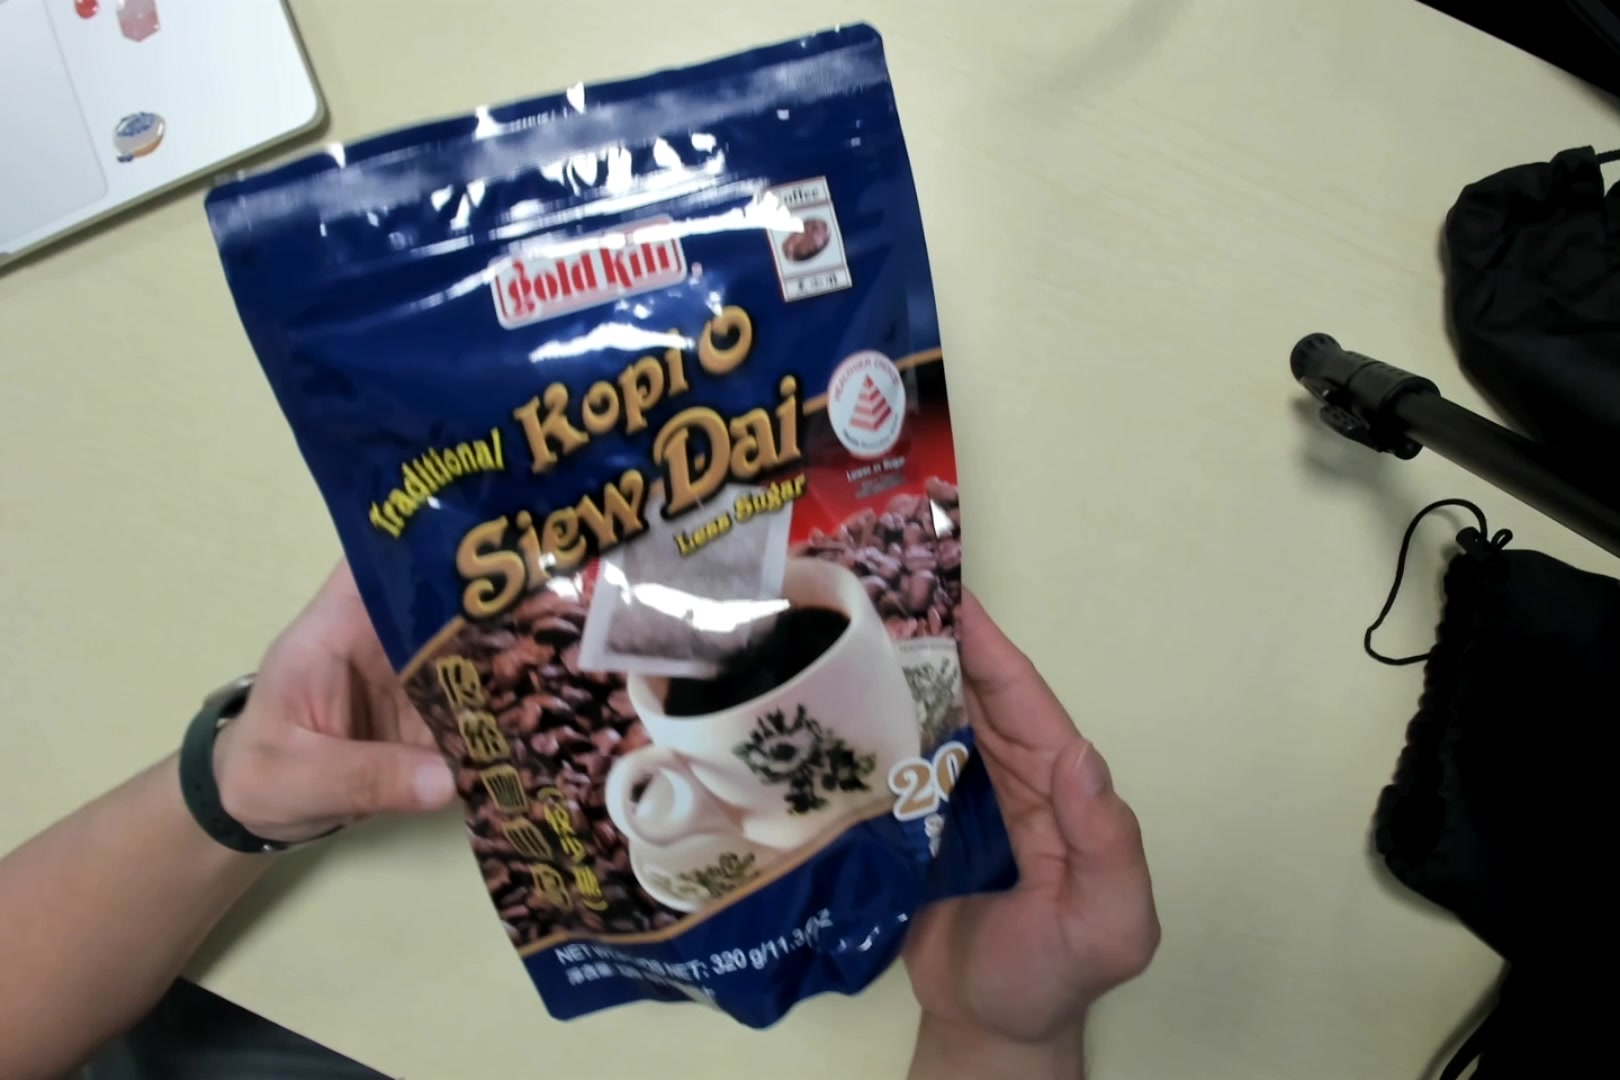Coffee(Powder)_300-399g_Halal_Healthy: (229, 40, 1025, 1009)
